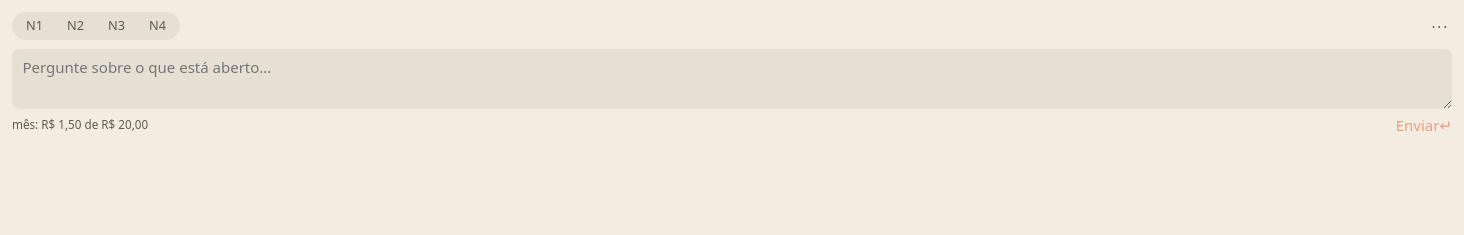
atalho manda o pedido e a resposta chega aos pedaços, com o custo
This screenshot has width=1464, height=235.
Click the button named "N2 Caminho" at (76, 26), box 55,14 -> 96,38
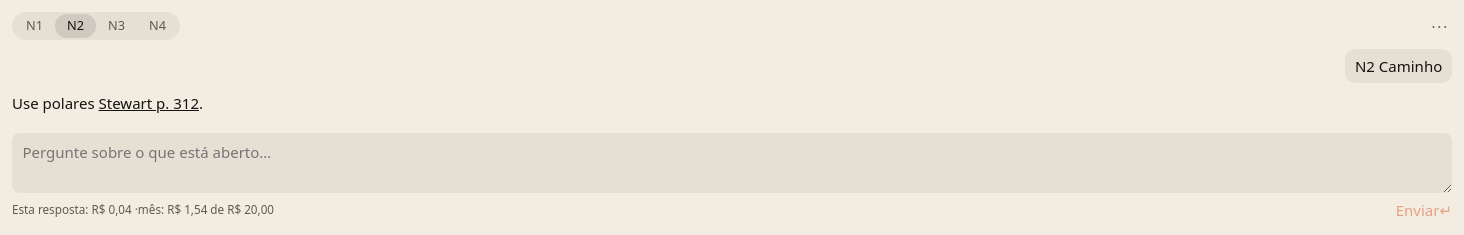
Result: the text "Use polares Stewart p. 312 ." is shown at 12,93 -> 203,113
Result: the text "Esta resposta: R$ 0,04 ·mês: R$ 1,54 de R$ 20,00" is shown at 12,201 -> 274,219
